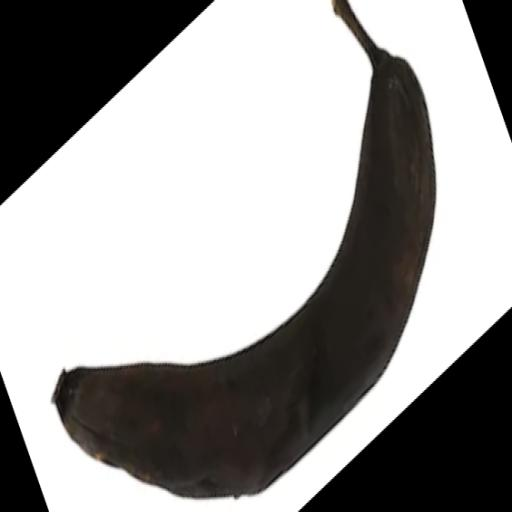banana-overripe: (35, 2, 434, 512)
